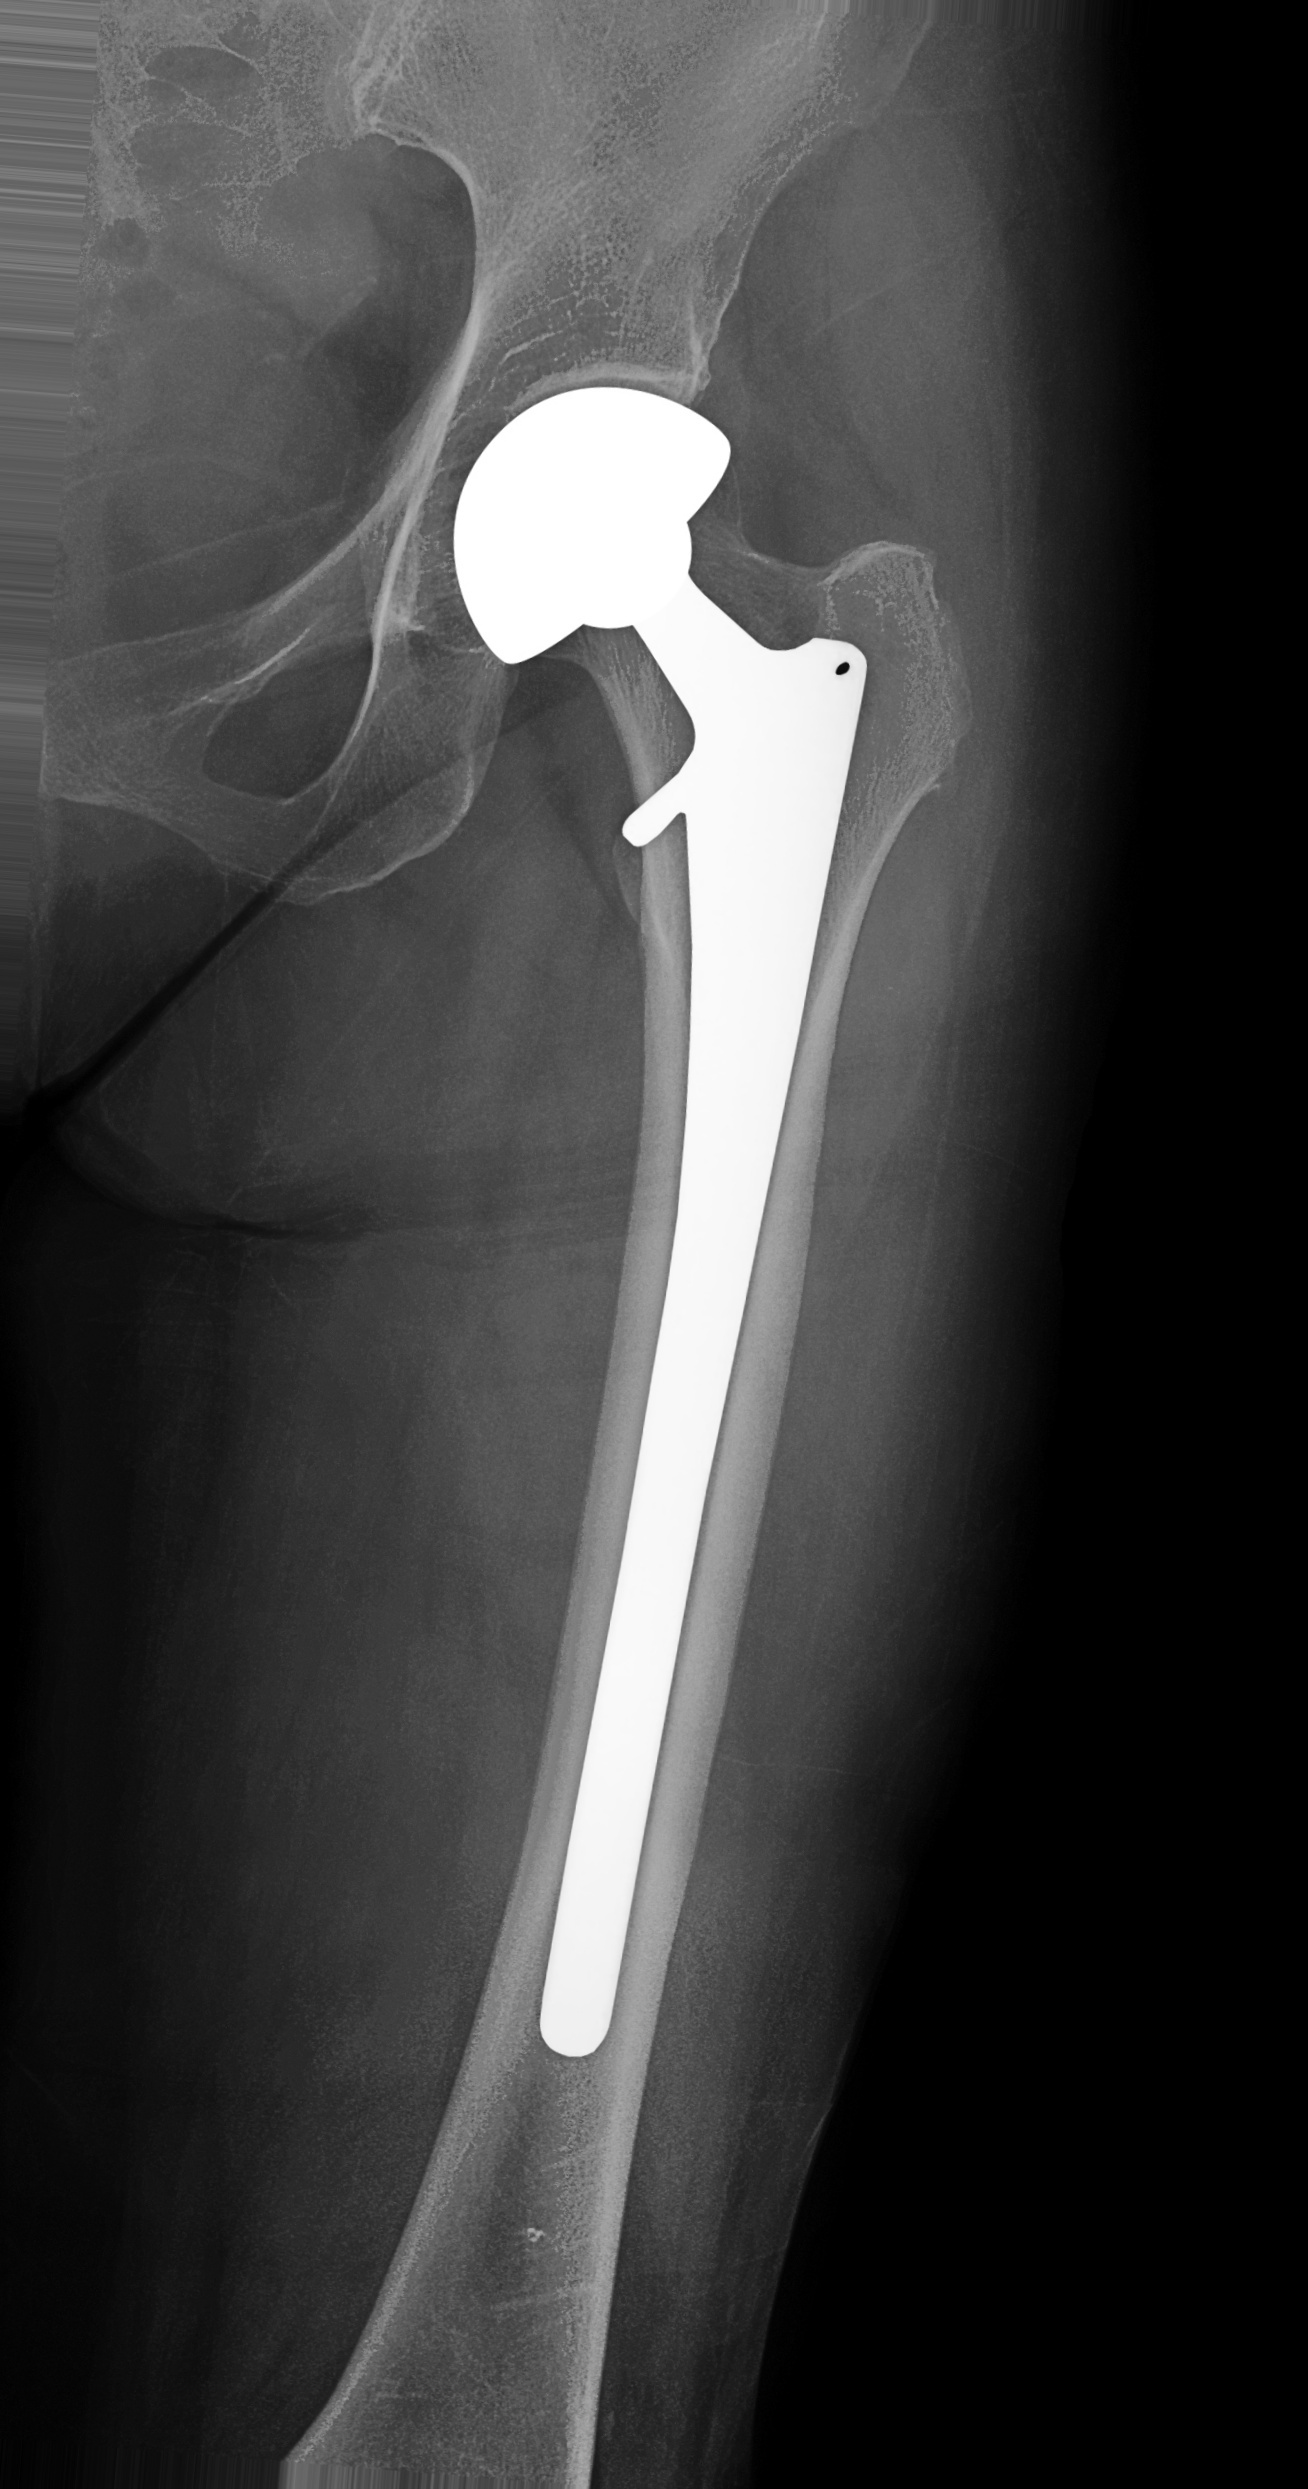Hip - Bias - Zimmer: (408, 346, 908, 2101)
